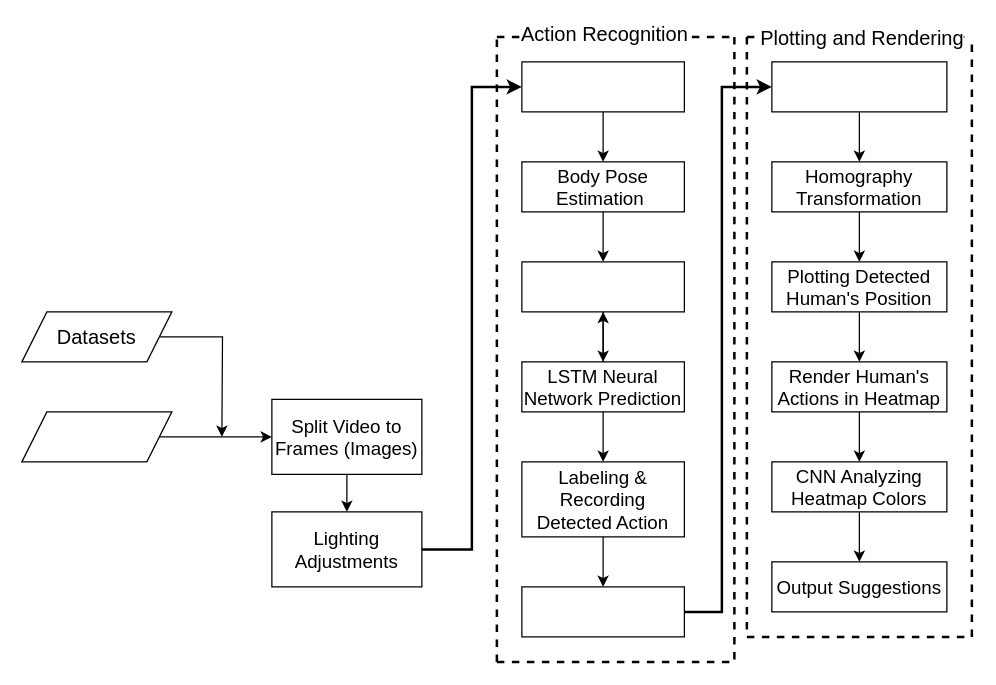
This 996x685 diagram has some shape labels left out. Each missing label, with the centre of its shape:
Human Detection: (602,86)
Keypoints Extraction: (602,286)
Labeling Action: (602,611)
Room Corners Detection: (859,86)
Video Feed Data: (96,436)
